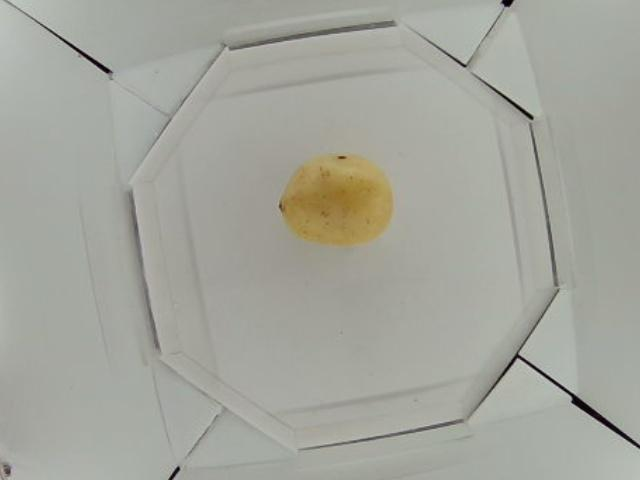Potato: (279, 153, 395, 244)
